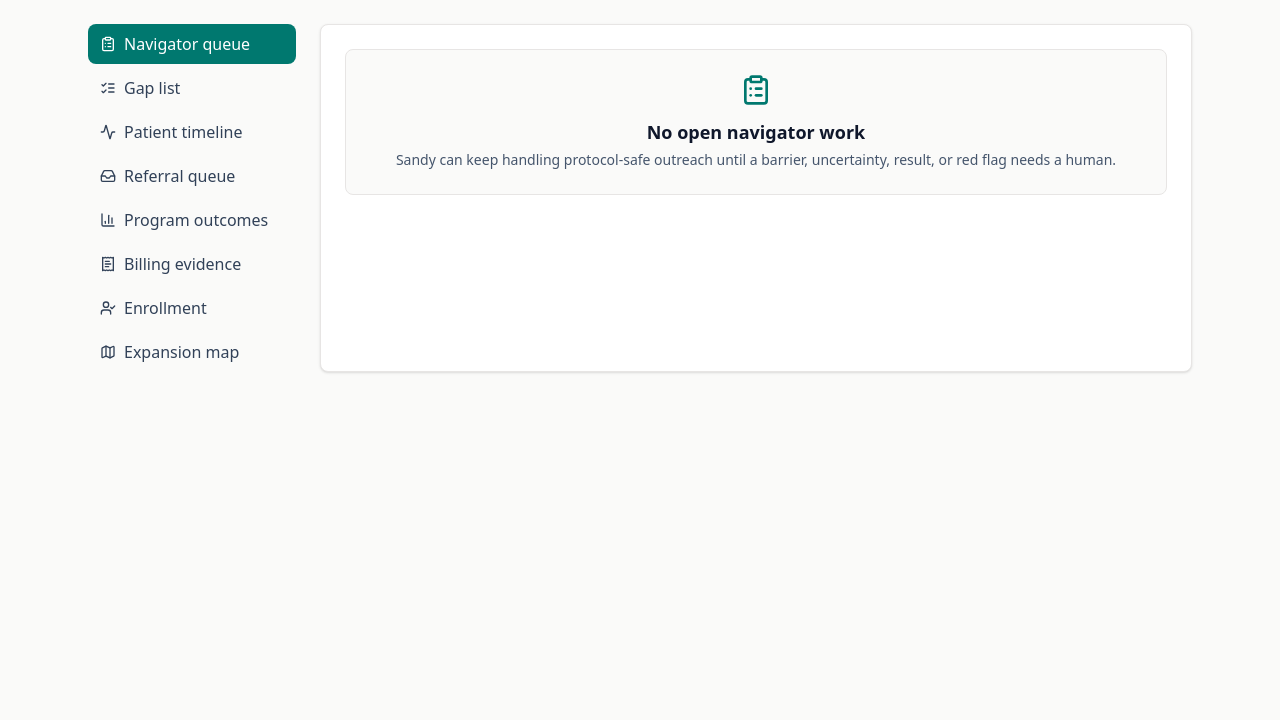
Test: HubShell › opens the billing evidence view from hub navigation
Click the button "Billing evidence". click: x=192, y=264
box: x1=88 y1=244 x2=296 y2=284
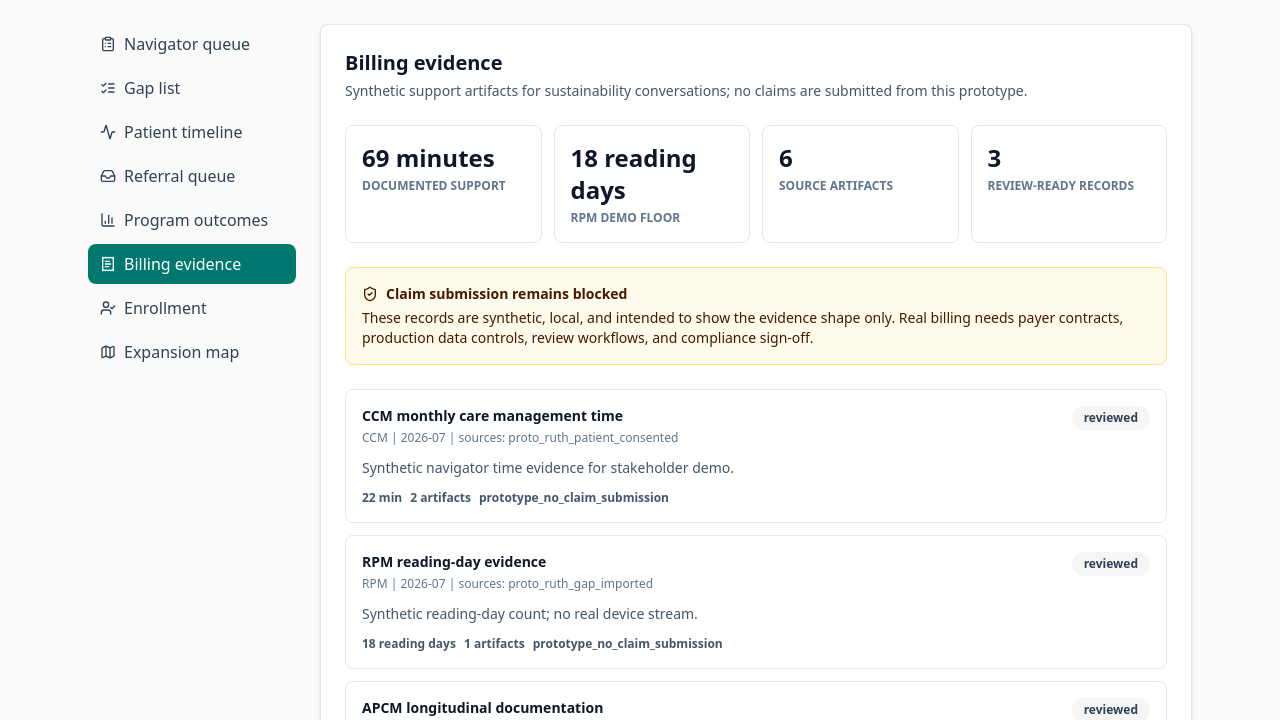
Check: the heading "Billing evidence" is shown, box x1=345 y1=49 x2=502 y2=76
Check: the text "Claim submission remains blocked" is shown, box x1=362 y1=284 x2=628 y2=303
